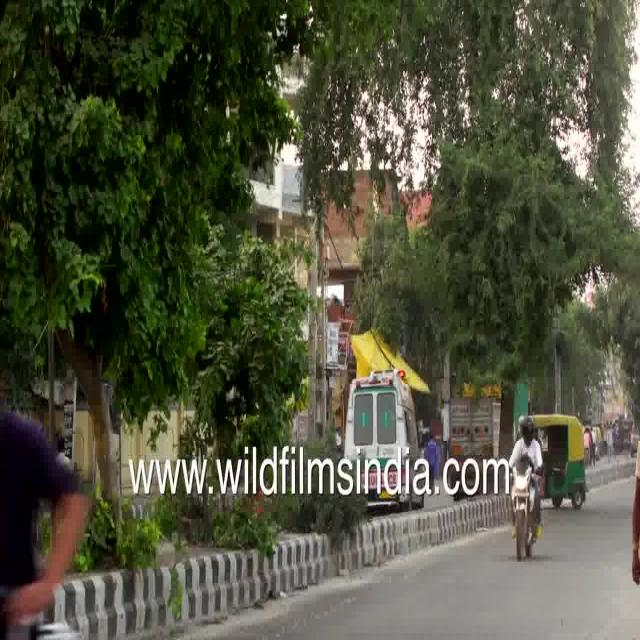ambulance: (335, 354, 432, 509)
